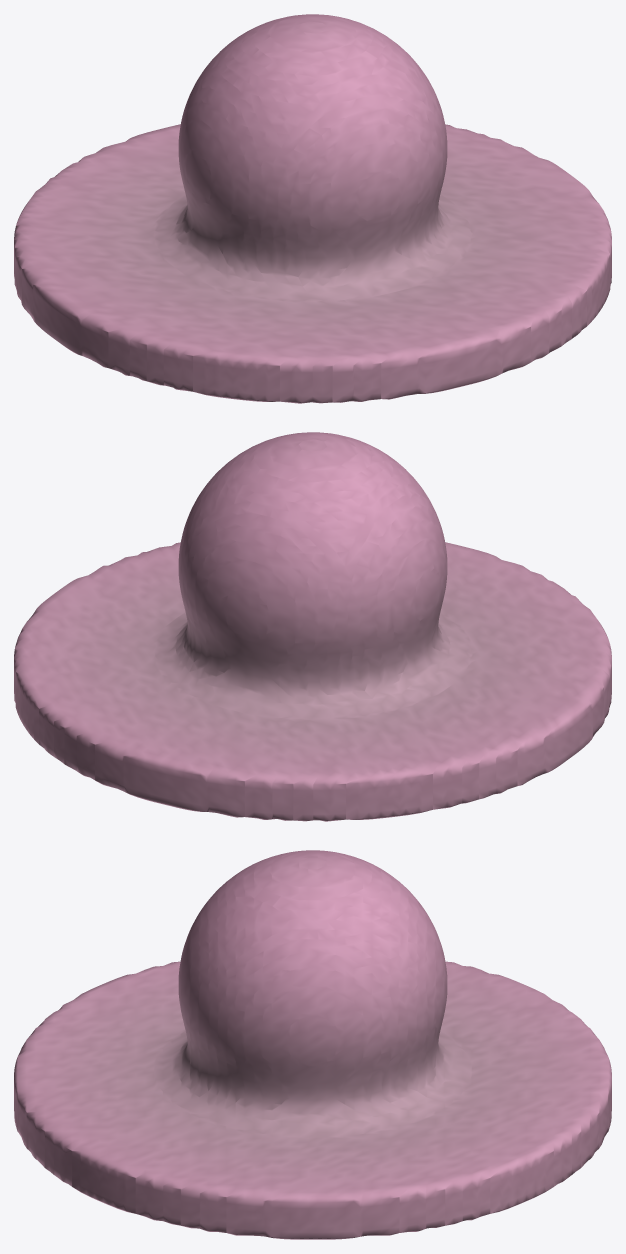
File: lotus.glb
The picture shows the model from 3 angles, top to bottom: view 1: azimuth 30°, elevation 25°; view 2: azimuth 150°, elevation 25°; view 3: azimuth 270°, elevation 25°; orthographic projection.
Visible parts, largest first — view 1: lotus; view 2: lotus; view 3: lotus.
Part boxes in pixels (left/top/right/bottom): lotus: left=14, top=14, right=611, bottom=403; lotus: left=14, top=432, right=611, bottom=821; lotus: left=14, top=850, right=611, bottom=1239.
Bounding box in the file's own units: 2 × 0.9703 × 2.
